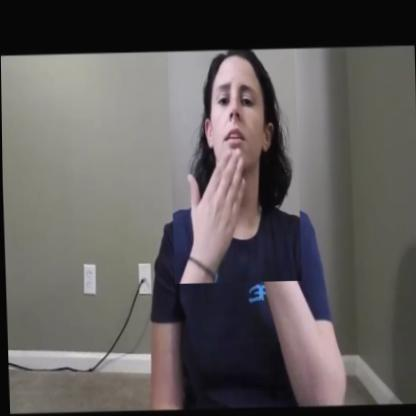ThankYou: (166, 40, 300, 284)
